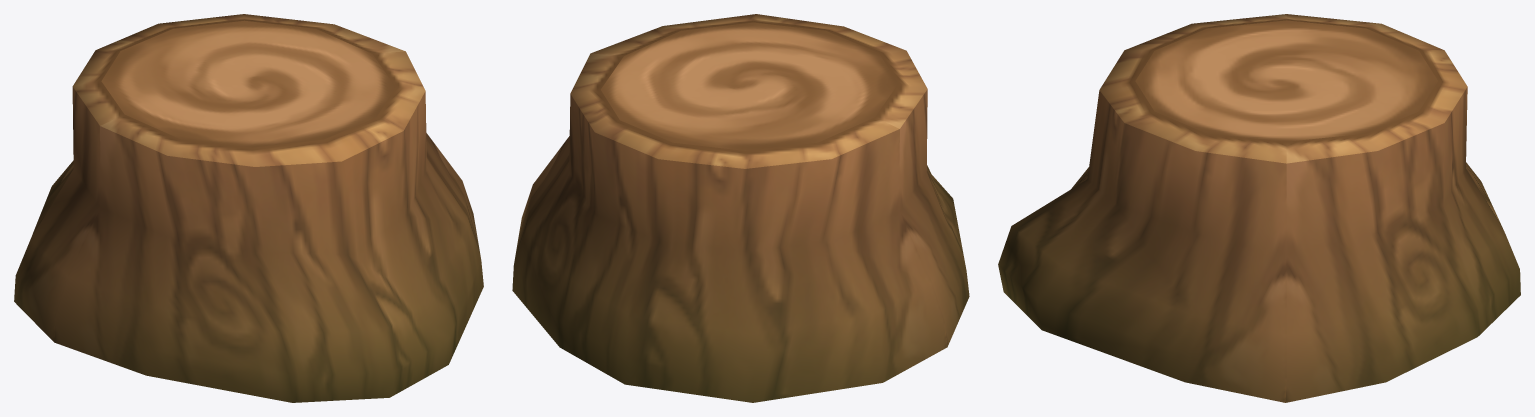
The model's file is VEG0210037.fbx.
3 renders of one model, left to right at view 1: azimuth 30°, elevation 25°; view 2: azimuth 150°, elevation 25°; view 3: azimuth 270°, elevation 25°, orthographic.
Visible parts, largest first — view 1: smVEG0210037; view 2: smVEG0210037; view 3: smVEG0210037.
Boxes of the visible parts, left/top/right/bottom form: smVEG0210037: left=14, top=14, right=483, bottom=402; smVEG0210037: left=512, top=14, right=969, bottom=402; smVEG0210037: left=998, top=14, right=1520, bottom=402.
Size of the model in its own units: 98.32 by 46.86 by 105.
Materials: 1 (1 with a texture image).
